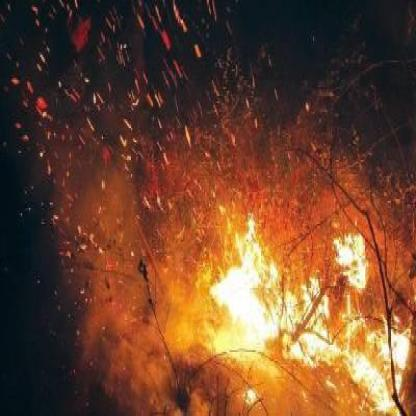fire: (199, 202, 406, 410)
